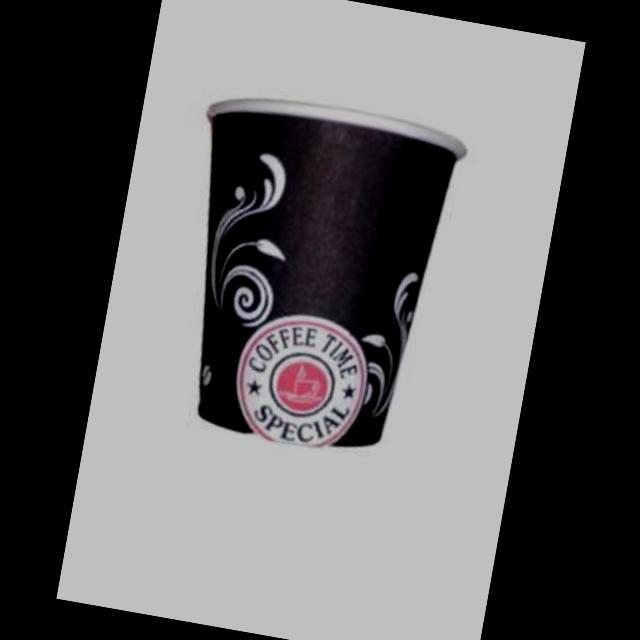trash: (82, 31, 514, 512)
